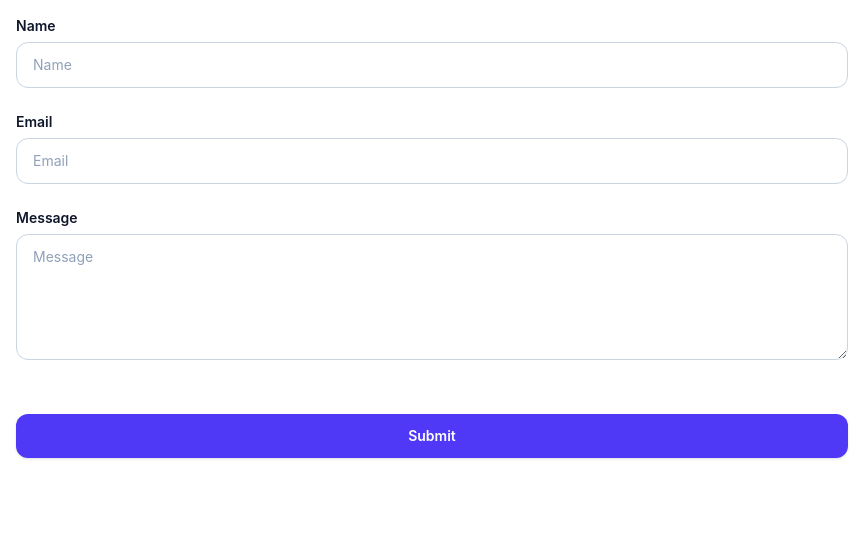
Test: ContactForm (unit) › display success banner after successful submission
What coordinates should you click on to do the following:
click the button "Submit"
I would click on:
 (432, 436)
Its box is [16,414,848,458].
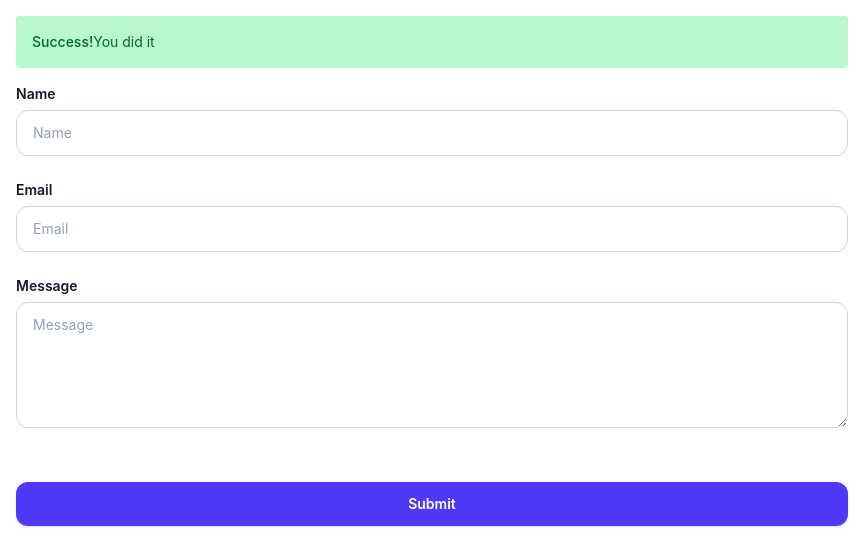
Expected: the text "Success!" is shown, [32,32,93,52]
Expected: the text "You did it" is shown, [93,33,155,50]
